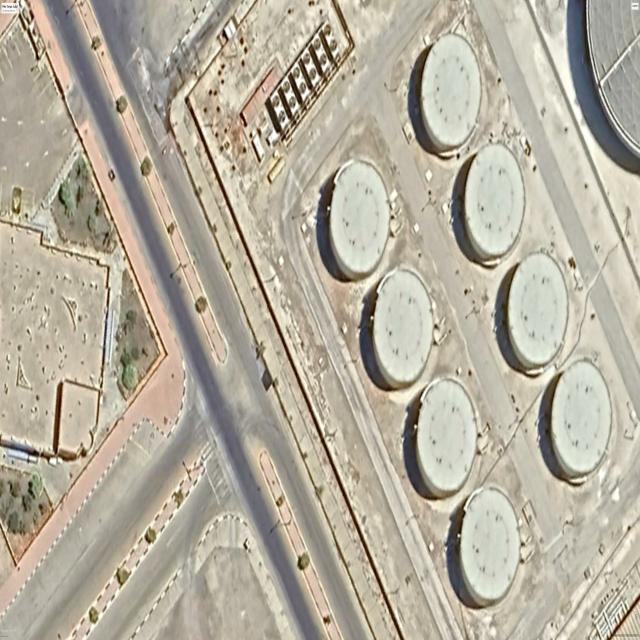Oil Rafinery: (504, 251, 569, 376), (549, 359, 612, 484), (419, 33, 481, 156), (463, 143, 525, 265), (372, 267, 434, 388), (415, 377, 477, 498), (329, 160, 390, 278), (460, 487, 519, 605)
